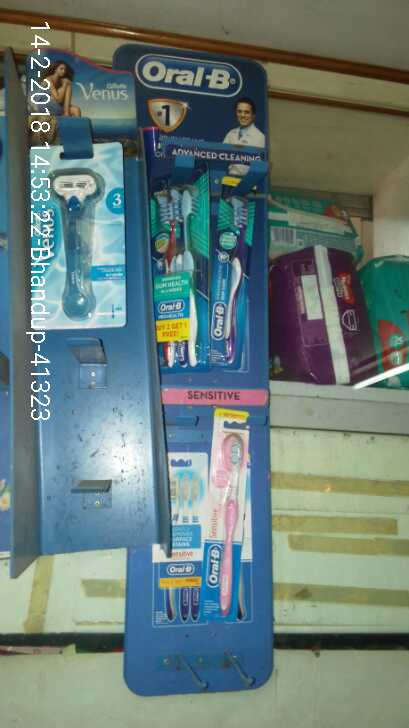beauty: (26, 141, 130, 332)
pharmacy: (149, 162, 208, 373), (209, 165, 255, 376), (209, 423, 249, 623)
